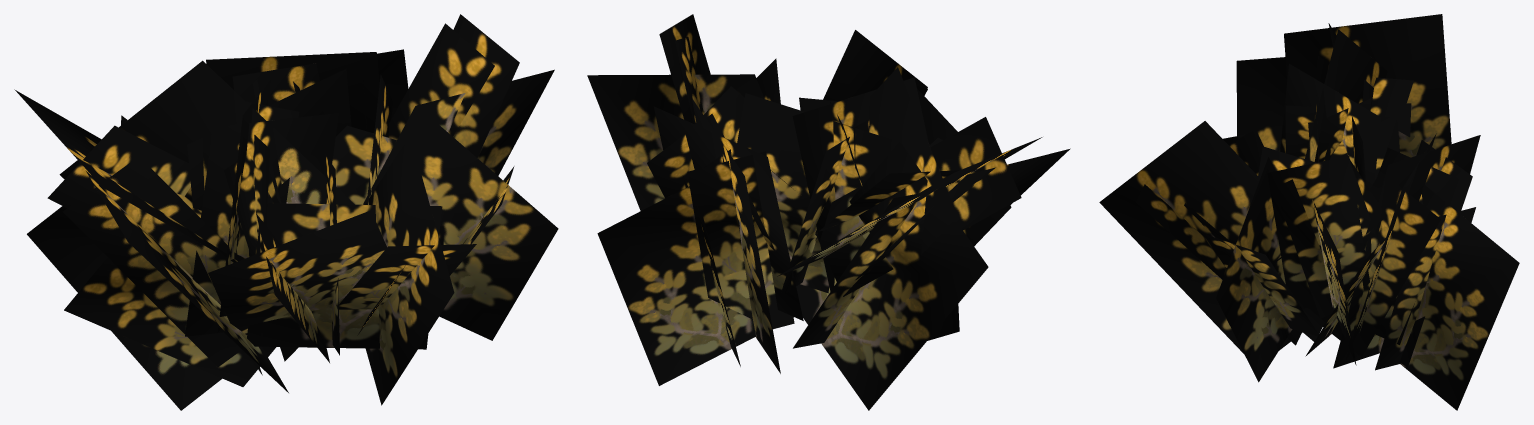
File: P_DesertBush04.obj
3 renders of one model, left to right at view 1: azimuth 30°, elevation 25°; view 2: azimuth 150°, elevation 25°; view 3: azimuth 270°, elevation 25°, orthographic. The views are drawn at different scales.
Bounding box in the file's own units: 6.57 × 4.66 × 5.71.
